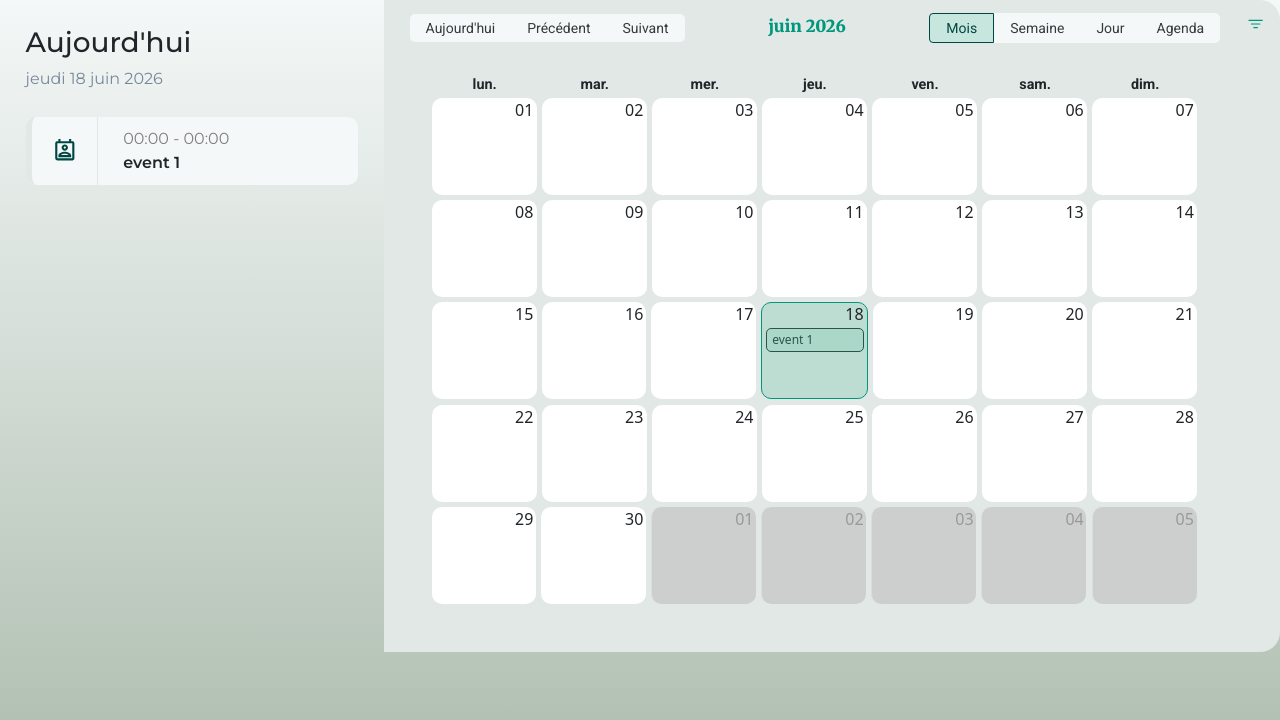
it: Agenda › Should render selected event's participants when caregivers and/or recipients array is provided
Click the element with test id "rbcEvent": (815, 340) top-left (766, 328), bottom-right (864, 352)
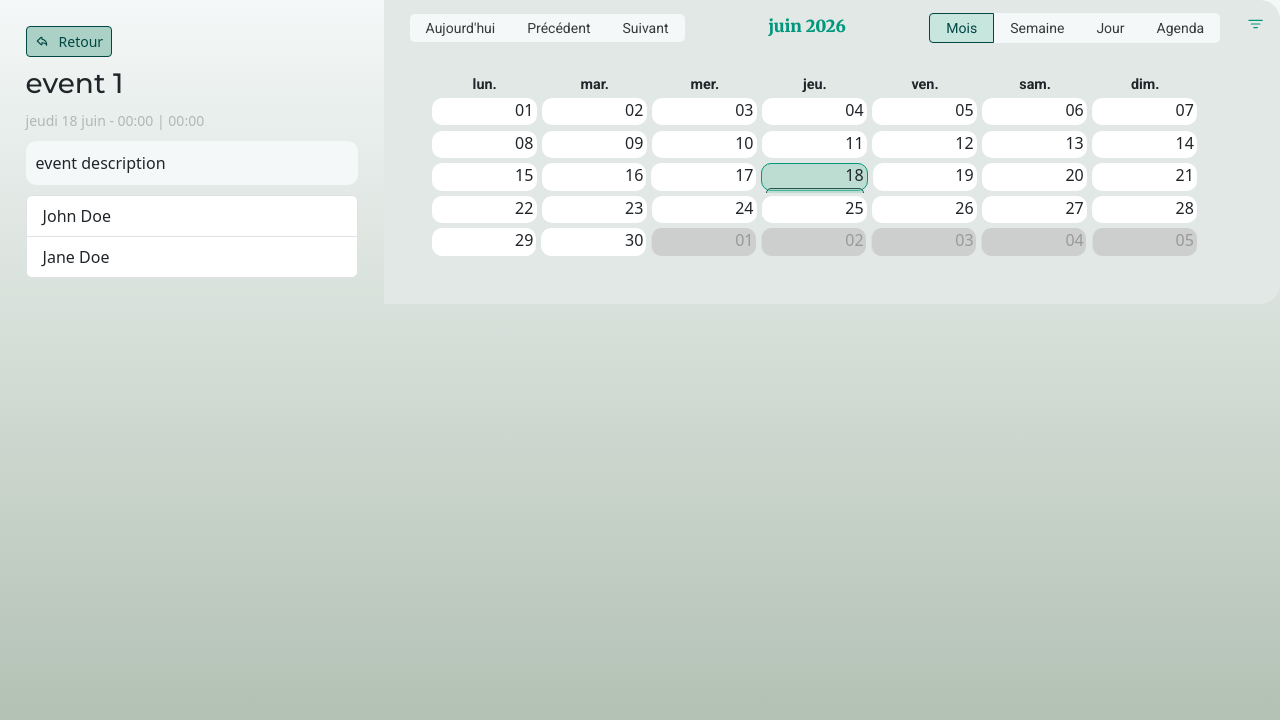
Expected: the text with test id "selectedEventParticipantsItem" reads "John Doe", top-left (26, 195), bottom-right (358, 237)
Expected: the text with test id "selectedEventParticipantsItem" reads "Jane Doe", top-left (26, 237), bottom-right (358, 278)
